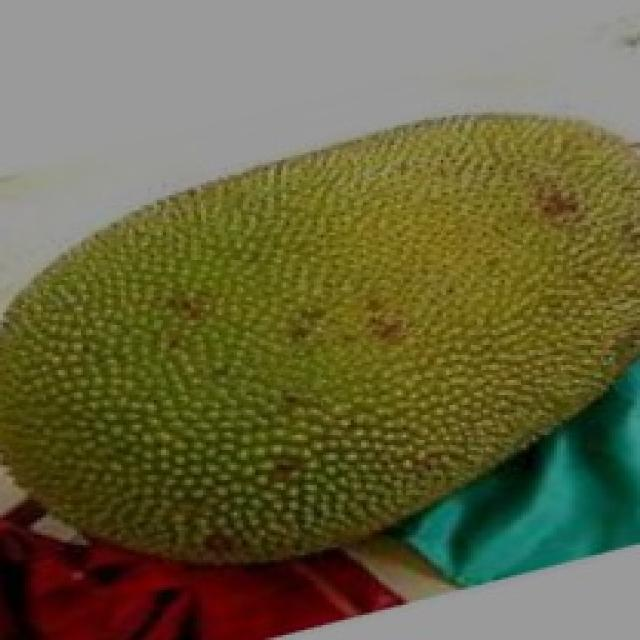Fruit: (0, 305, 397, 627), (218, 88, 640, 350)
